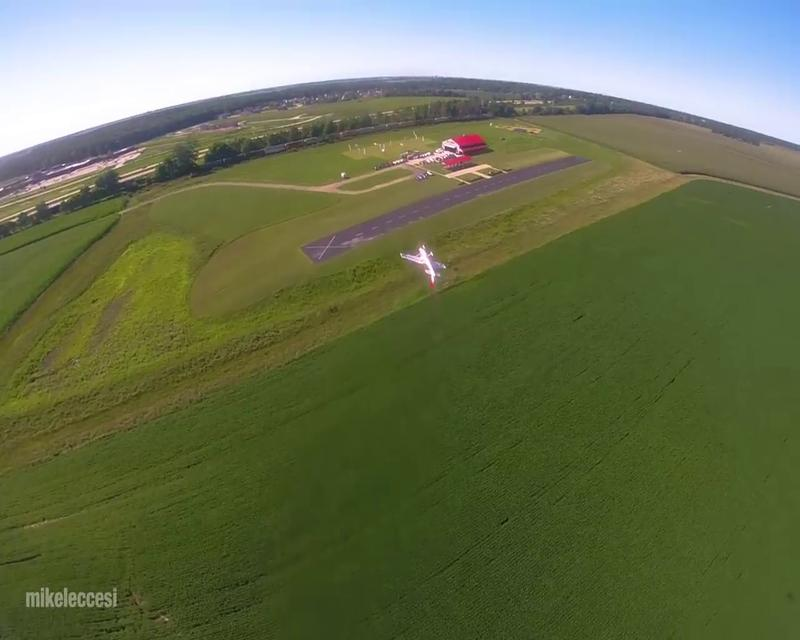UAV: (398, 245, 444, 284)
